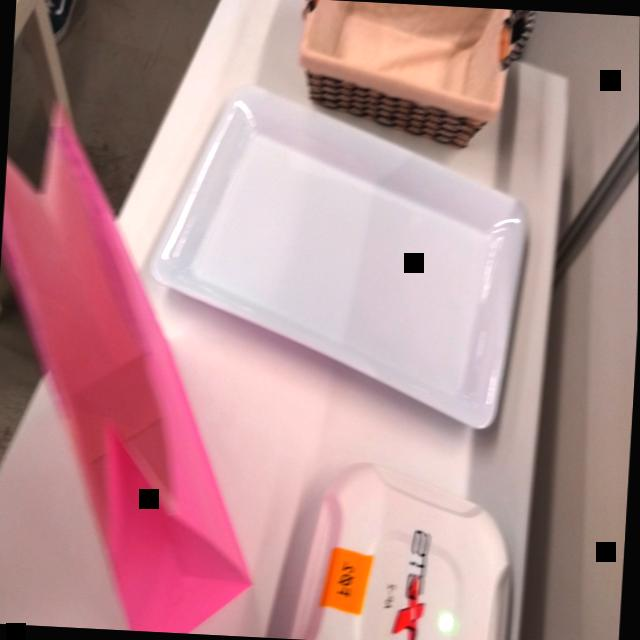help_me_carry_opl: (0, 94, 283, 637)
tray: (136, 79, 538, 442)
